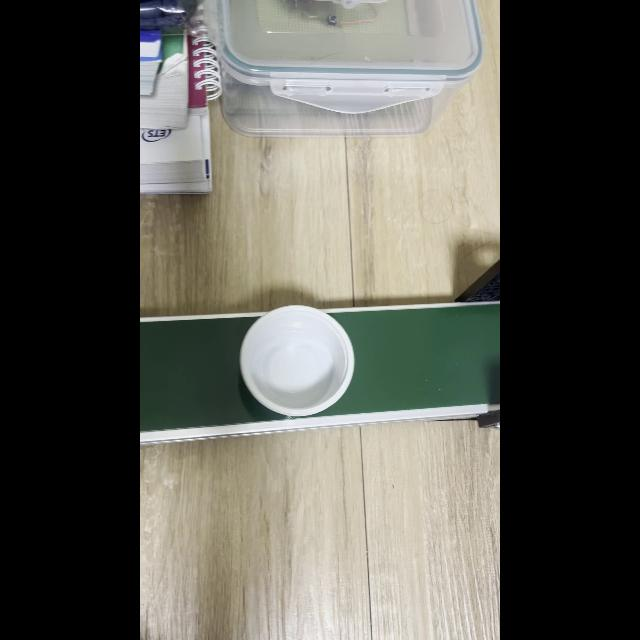clean: (238, 306, 352, 416)
